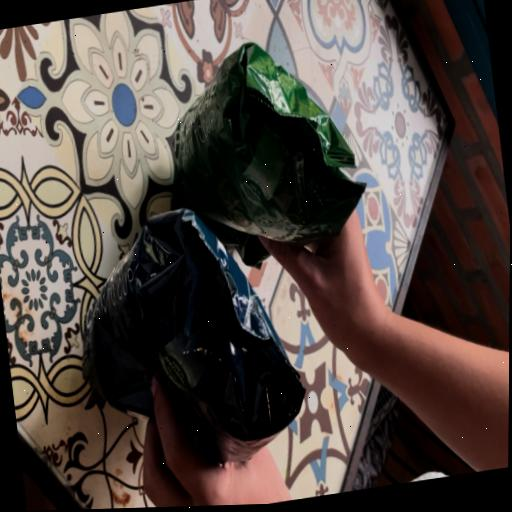cafe_hat: (82, 209, 304, 462)
cafe_xay: (171, 43, 364, 266)
